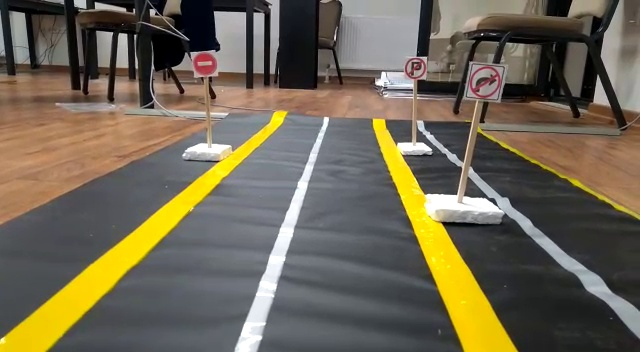girisi_olmayan_yol: (192, 50, 219, 77)
park_yapilmaz: (407, 56, 426, 79)
saga_donulmez: (469, 62, 500, 101)
